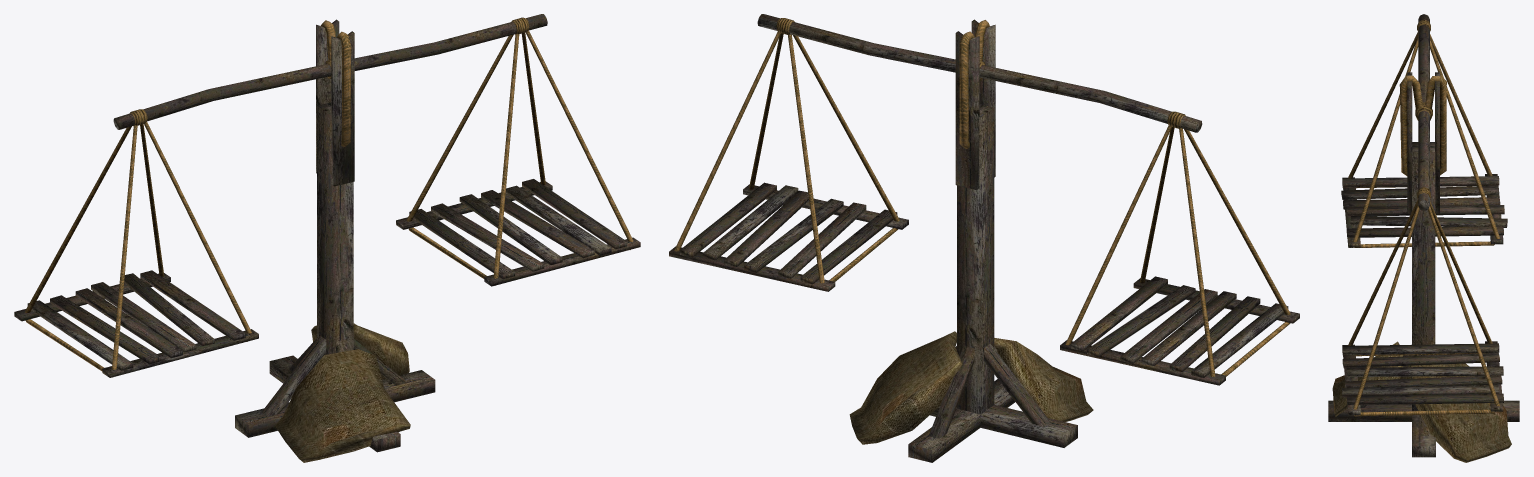
The model's file is KM_VOB_CITYSCALES.glb.
The picture shows the model from 3 angles, left to right: view 1: azimuth 30°, elevation 25°; view 2: azimuth 150°, elevation 25°; view 3: azimuth 270°, elevation 25°; orthographic projection. The views are drawn at different scales.
Parts seen in each view (by area): view 1: Mesh; view 2: Mesh; view 3: Mesh.
Boxes of the visible parts, bbox=[...] form: Mesh: bbox=[14, 14, 640, 462]; Mesh: bbox=[669, 14, 1299, 462]; Mesh: bbox=[1328, 14, 1519, 462].
Bounding box in the file's own units: 3.43 × 2.36 × 1.18.
4 materials, 4 textured.
